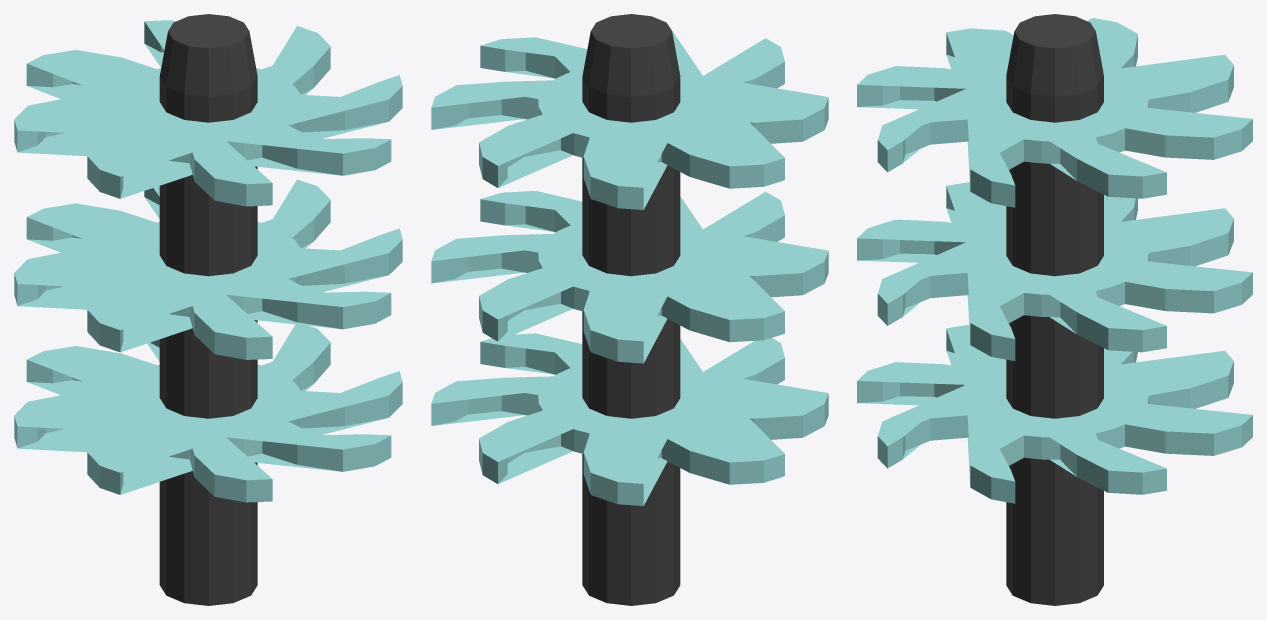
The model's file is Engel.fbx.
The picture shows the model from 3 angles, left to right: view 1: azimuth 30°, elevation 25°; view 2: azimuth 150°, elevation 25°; view 3: azimuth 270°, elevation 25°; orthographic projection.
Parts seen in each view (by area): view 1: Cylinder.004; view 2: Cylinder.004; view 3: Cylinder.004.
Part boxes in pixels (x1,y1,x2,y2): Cylinder.004: [14, 14, 402, 605]; Cylinder.004: [431, 14, 828, 605]; Cylinder.004: [857, 14, 1252, 605].
Bounding box in the file's own units: 193 × 298 × 193.
